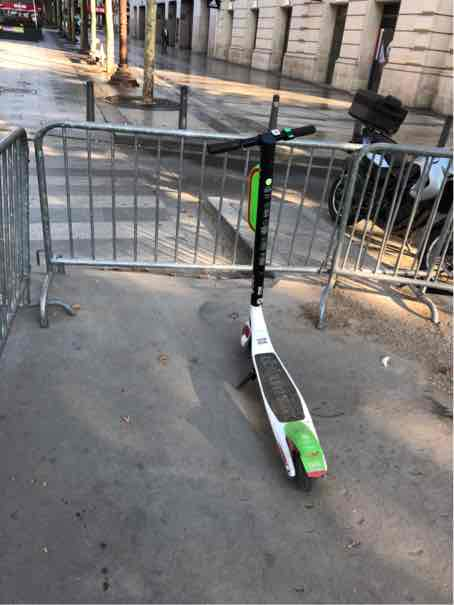scooter: (197, 119, 353, 509)
